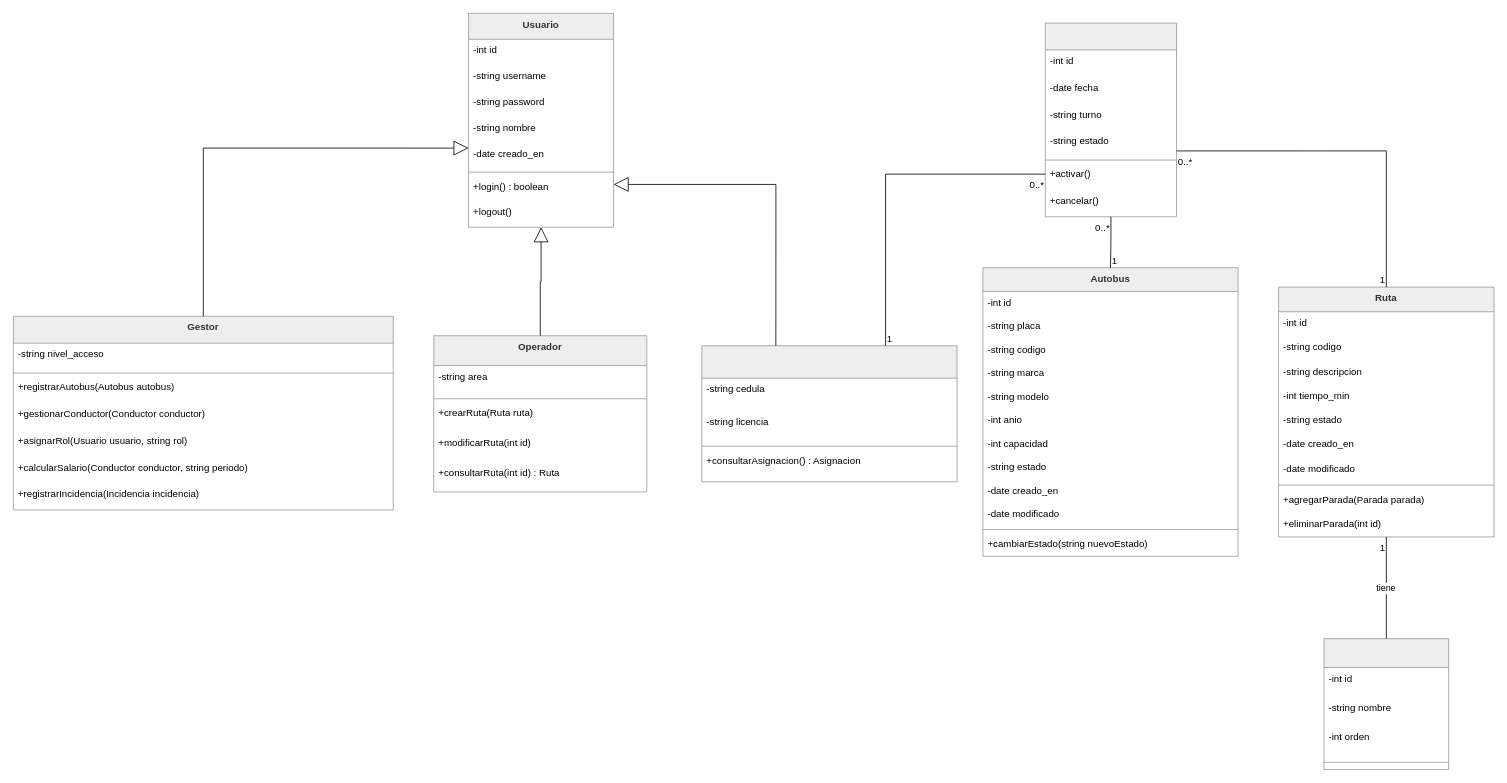
This 1507x783 diagram has some shape labels left out. Here are the shapes that lost their labels. From the top down, the box of each, then its label:
(1044, 22, 1177, 217): Asignacion
(701, 345, 957, 482): Conductor
(1323, 638, 1449, 770): Parada
